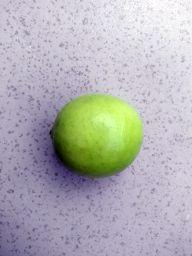lemon: (46, 83, 151, 182)
